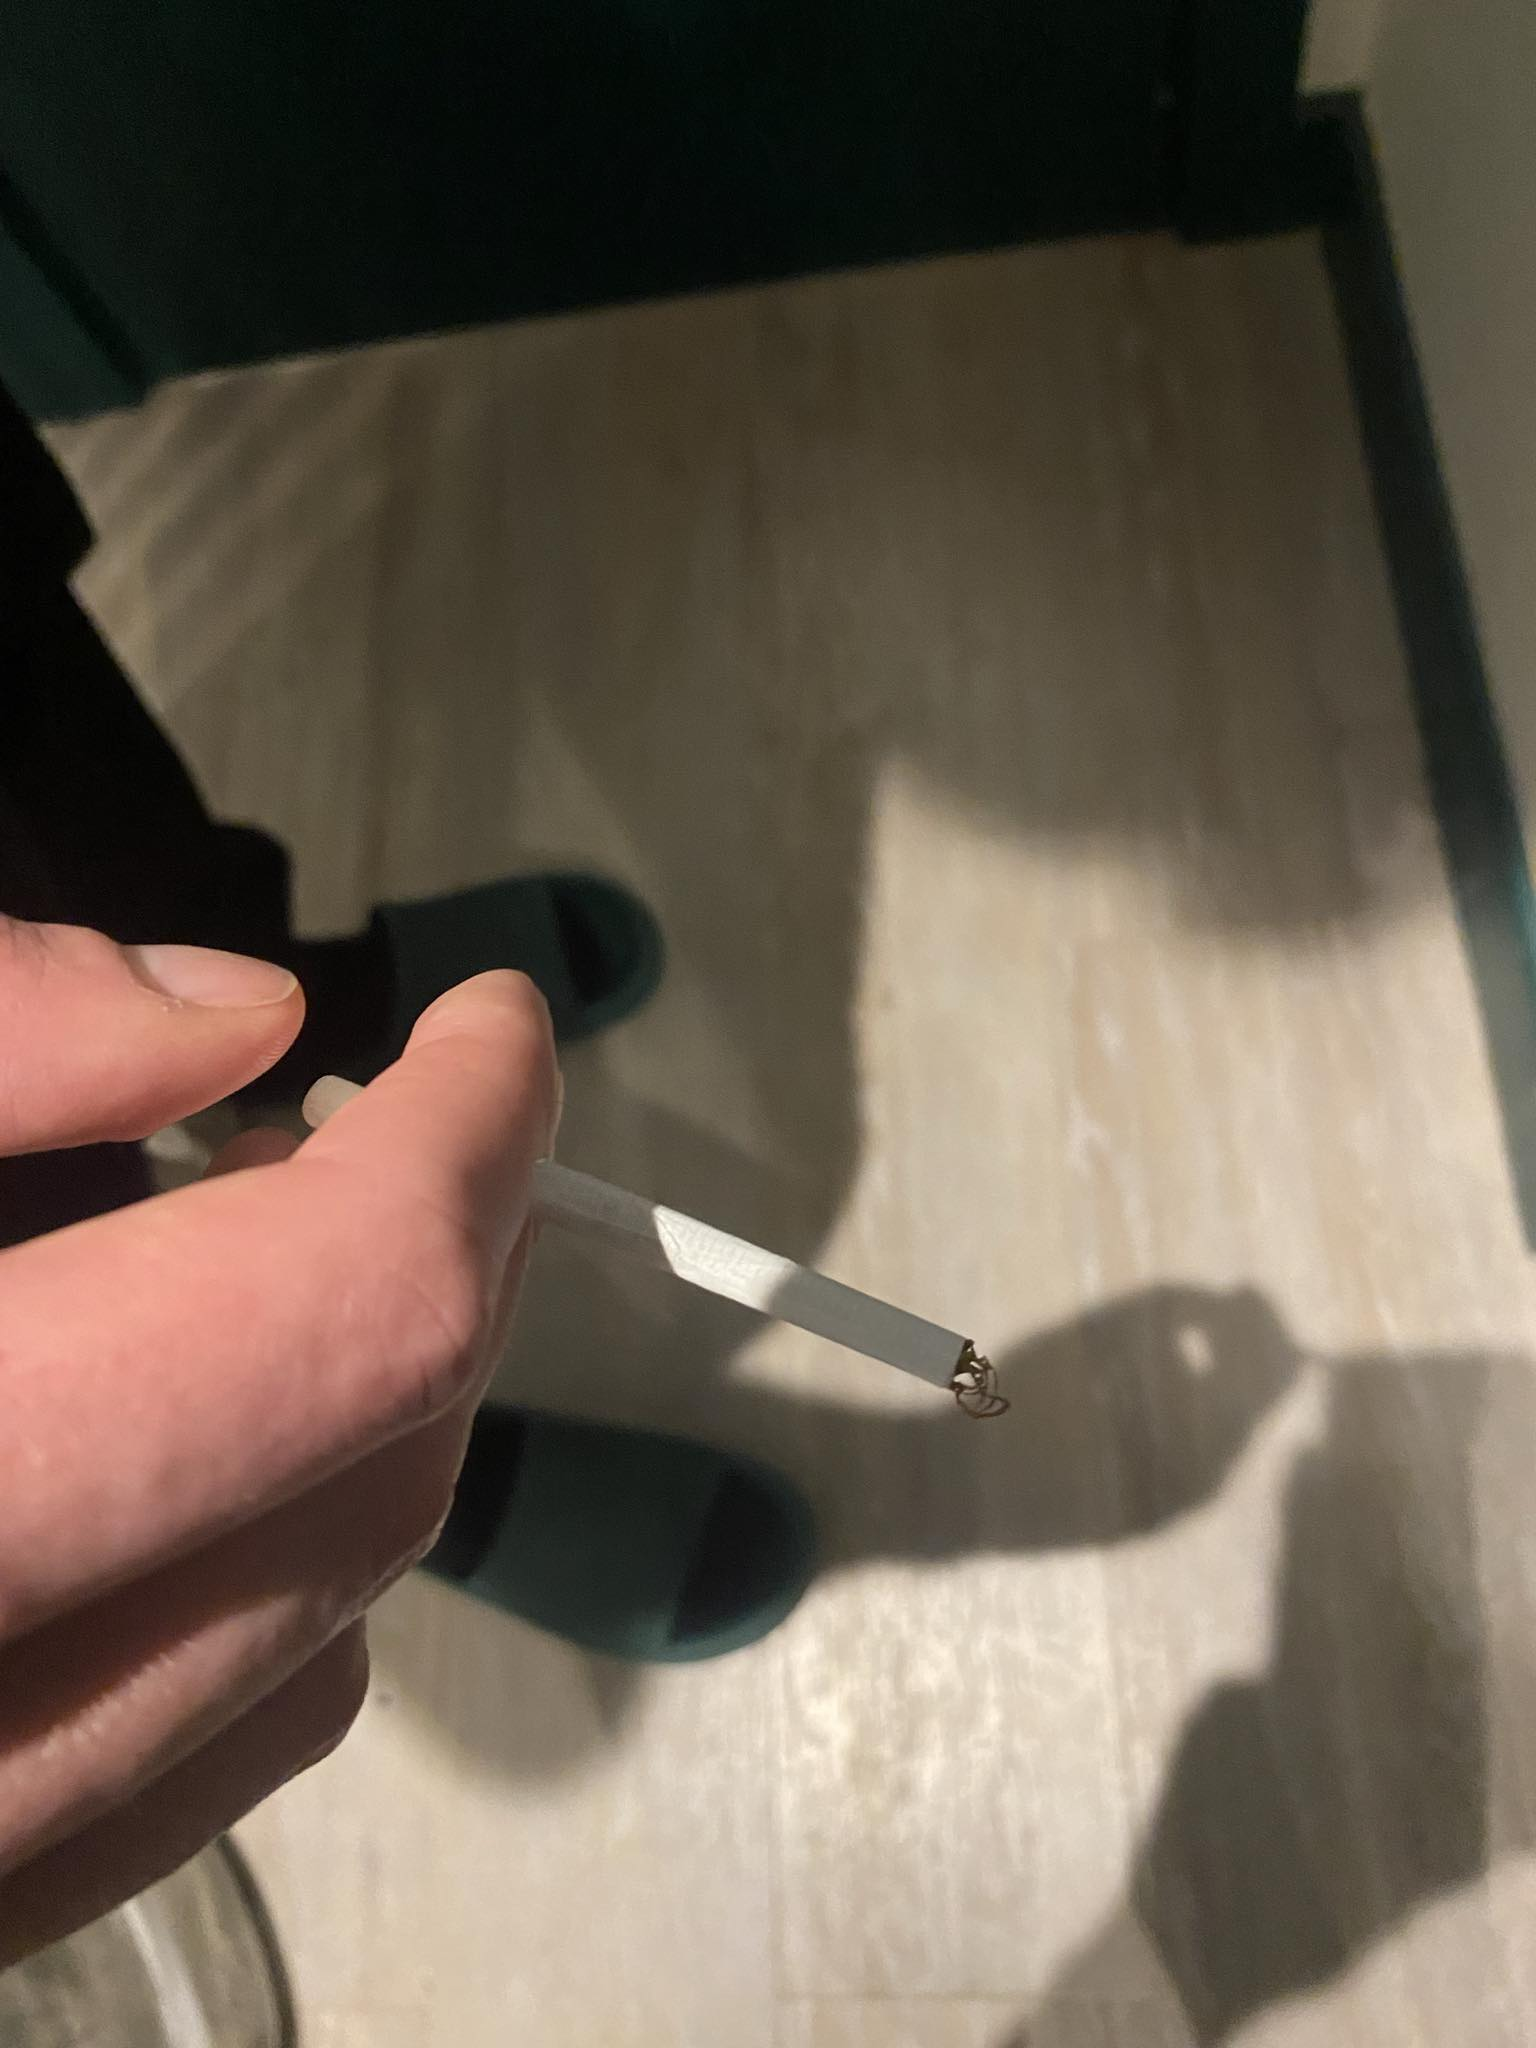Cigarette: (298, 1066, 1004, 1422)
